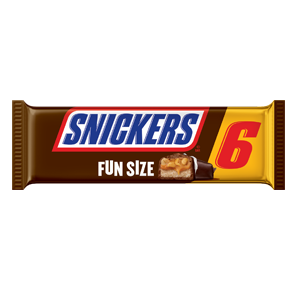snickers: (60, 113, 201, 144)
